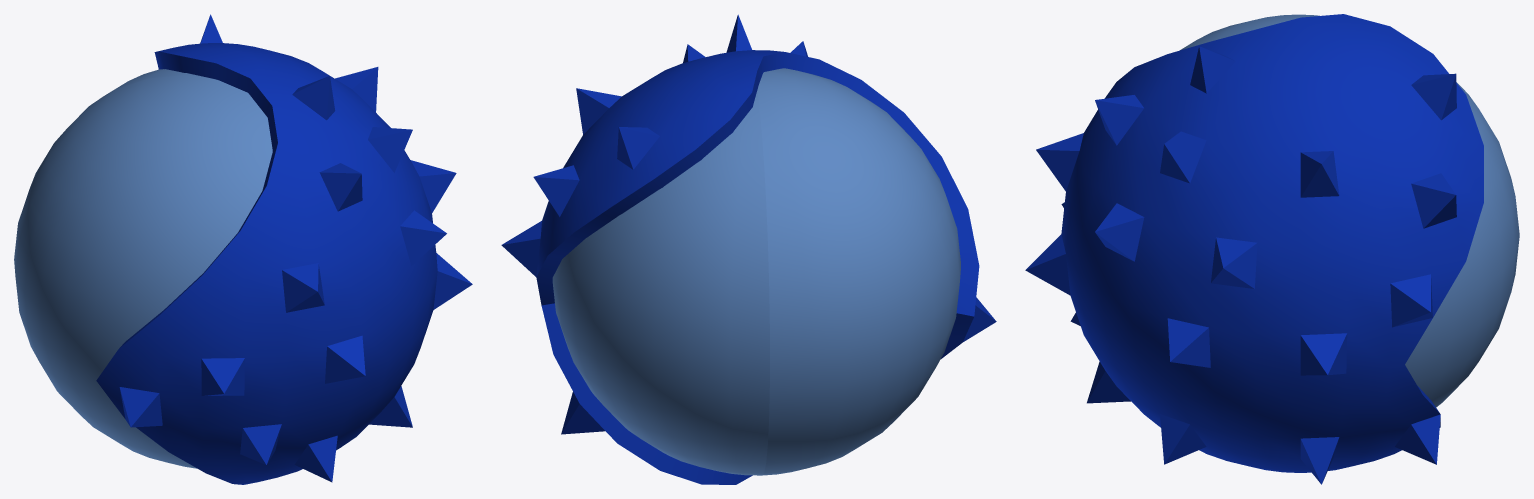
3 views of the same model, side by side, from view 1: azimuth 30°, elevation 25°; view 2: azimuth 150°, elevation 25°; view 3: azimuth 270°, elevation 25° (orthographic). The views are drawn at different scales.
Visible parts, largest first — view 1: 对象001, Sphere001; view 2: Sphere001, 对象001; view 3: 对象001, Sphere001.
Boxes of the visible parts, x1,y1,x2,y2 form: 对象001: (96,14,472,484); Sphere001: (14,69,272,468); Sphere001: (552,68,960,475); 对象001: (501,14,996,484); 对象001: (1025,14,1483,484); Sphere001: (1180,14,1519,407).
Bounding box in the file's own units: 50.36 × 49.51 × 50.45.
